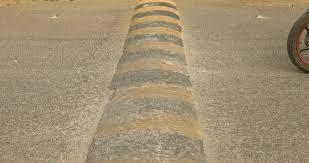speedbreaker: (89, 1, 210, 163)
